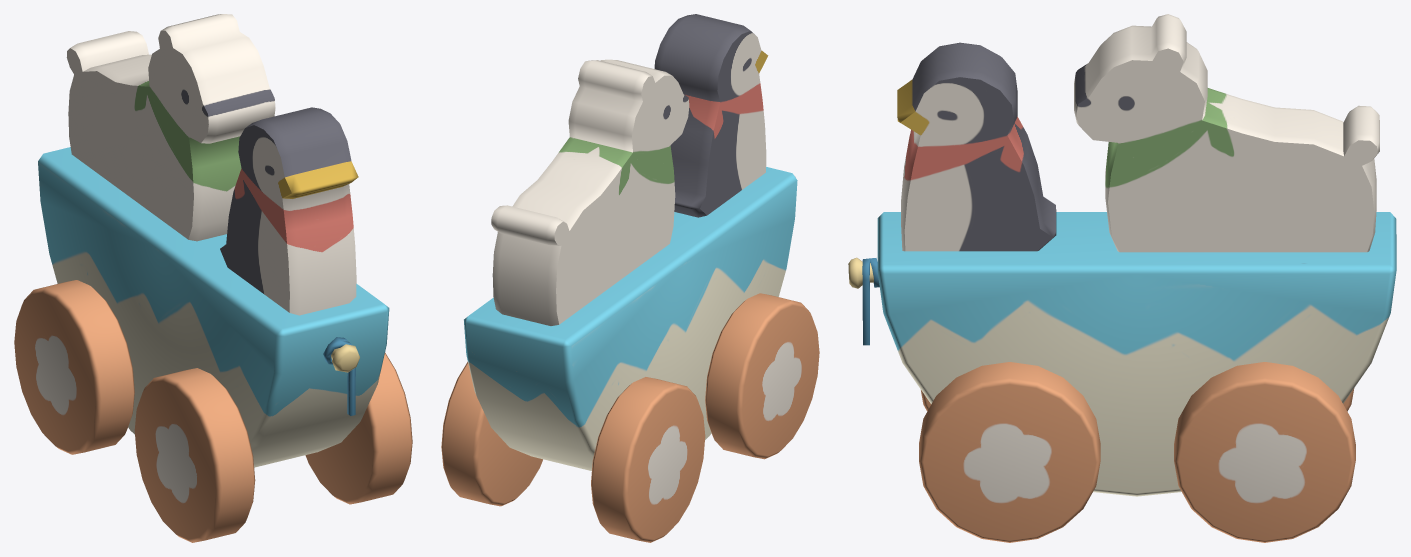
The model's file is cart.glb.
3 views of the same model, side by side, from view 1: azimuth 30°, elevation 25°; view 2: azimuth 150°, elevation 25°; view 3: azimuth 270°, elevation 25° (orthographic). The views are drawn at different scales.
Parts seen in each view (by area): view 1: car, bear, penguin; view 2: car, bear, penguin; view 3: car, bear, penguin.
Boxes of the visible parts, bbox=[...] form: car: bbox=[14, 147, 412, 542]; bear: bbox=[66, 14, 275, 241]; penguin: bbox=[220, 107, 358, 315]; car: bbox=[441, 166, 819, 542]; bear: bbox=[491, 59, 689, 325]; penguin: bbox=[654, 14, 768, 217]; car: bbox=[848, 212, 1396, 542]; bear: bbox=[1074, 14, 1379, 252]; penguin: bbox=[897, 42, 1056, 251].
Size of the model in its own units: 0.847 by 1.81 by 1.93.
Materials: 2 (2 with a texture image).
